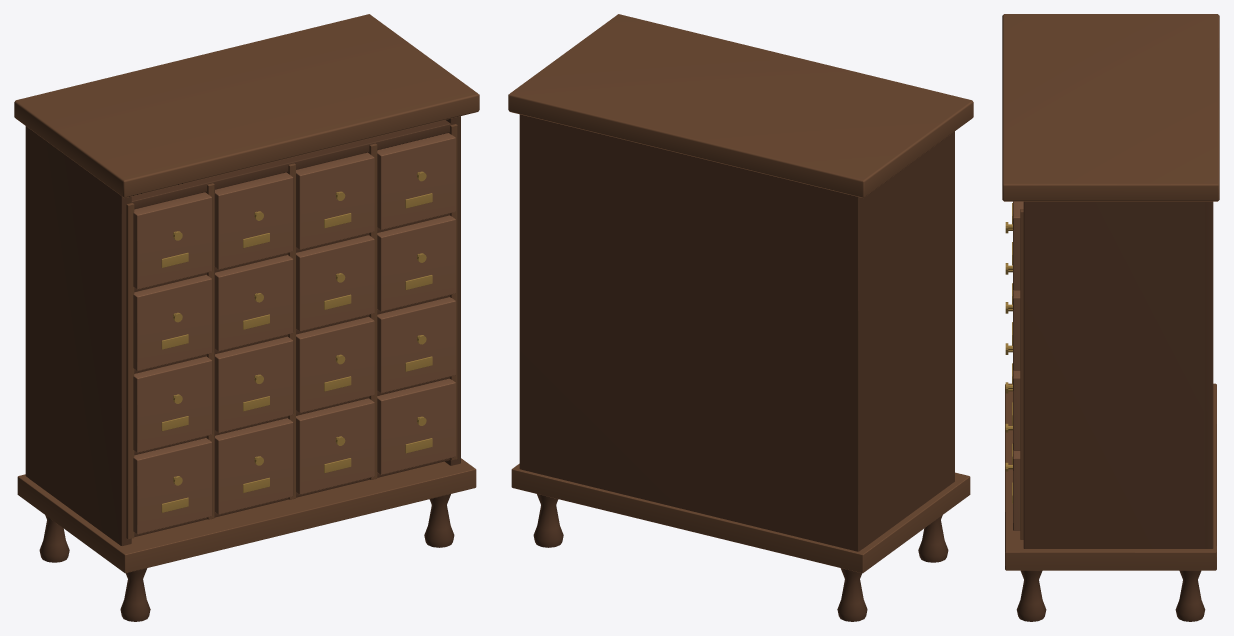
The model's file is rpg-mansion-apothecary-chest-01.glb.
3 renders of one model, left to right at view 1: azimuth 30°, elevation 25°; view 2: azimuth 150°, elevation 25°; view 3: azimuth 270°, elevation 25°, orthographic.
Parts seen in each view (by area): view 1: rpg-mansion-apothecary-chest-01; view 2: rpg-mansion-apothecary-chest-01; view 3: rpg-mansion-apothecary-chest-01.
Boxes of the visible parts, box(x1,y1,x2,y2) form: rpg-mansion-apothecary-chest-01: box(14, 14, 479, 621); rpg-mansion-apothecary-chest-01: box(508, 14, 973, 621); rpg-mansion-apothecary-chest-01: box(1002, 14, 1219, 621).
Bounding box in the file's own units: 0.874 × 1.06 × 0.469.
